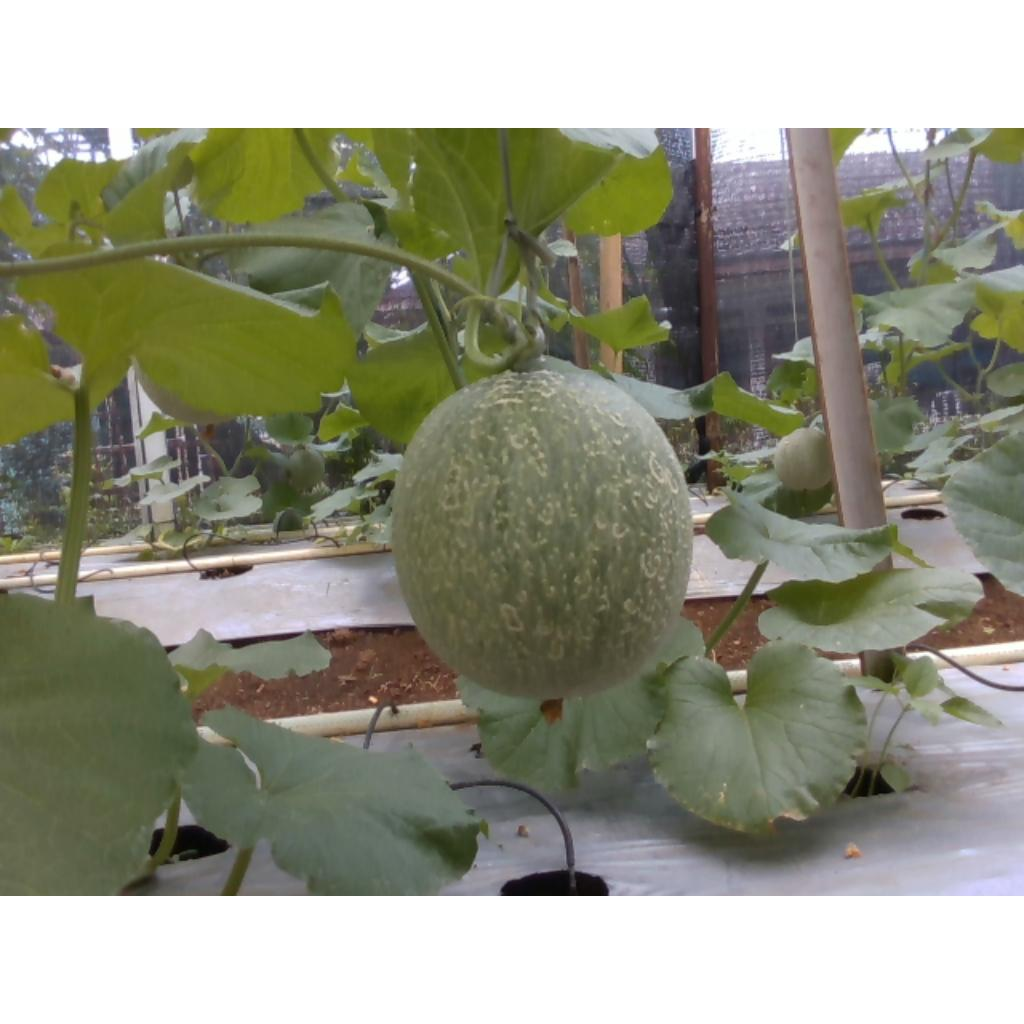melon: (394, 371, 693, 700)
